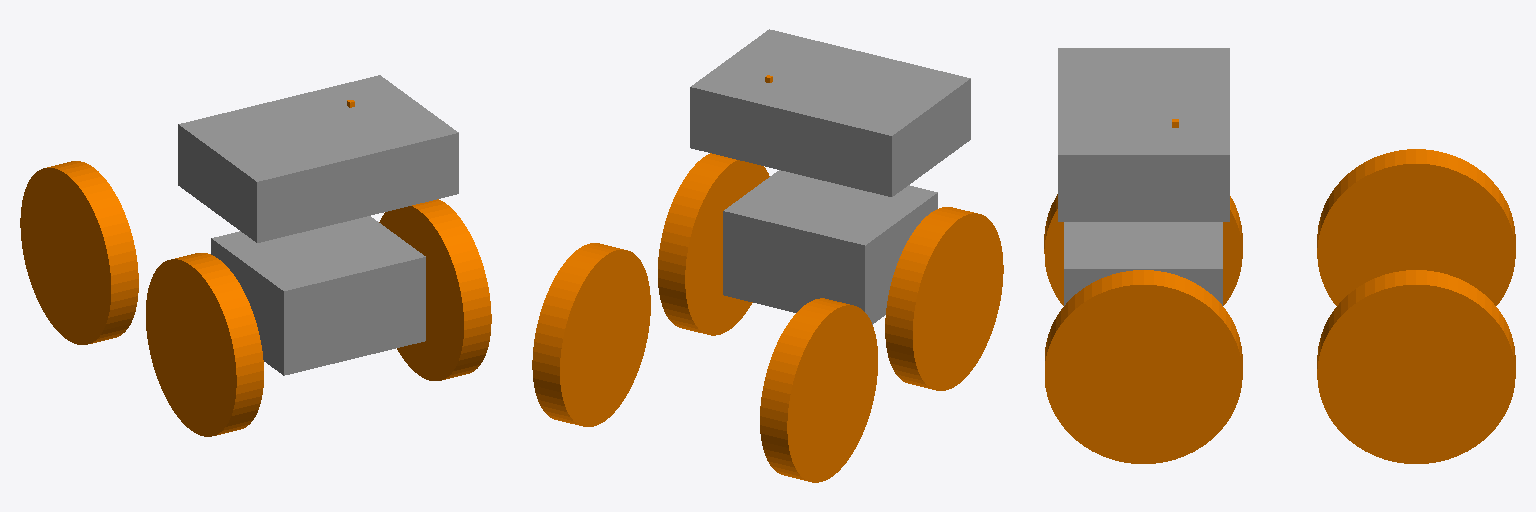
URDF robot description (assembly_simplified_stable):
<!--URDF generated by ONSHAPE BY PTC INC, 1.221-->
<robot name="assembly_simplified_stable">
    <link name="electronics">
        <inertial>
            <mass value="0.0420287" />
            <origin xyz="7.60155e-18 -4.46789e-18 0.0081" rpy="0 -0 0" />
            <inertia ixx="5.92353e-06" ixy="0" ixz="0" iyy="1.18244e-05" iyz="0" izz="1.59096e-05" />
        </inertial>
        <visual>
            <origin xyz="6.42531e-18 -4.14663e-18 -0.02685" rpy="0 -0 0" />
            <geometry>
                <mesh filename="package://assembly_simplified_stable/meshes/Electronics.stl" scale="1 1 1" />
            </geometry>
            <material name="0.647059_0.647059_0.647059_0.000000_0.000000">
                <color rgba="0.647059 0.647059 0.647059 1" />
            </material>
        </visual>
    </link>
    <link name="lipos">
        <inertial>
            <mass value="0.040025" />
            <origin xyz="2.6001e-18 -1.35525e-19 0.007625" rpy="0 -0 0" />
            <inertia ixx="3.81773e-06" ixy="0" ixz="0" iyy="8.81675e-06" iyz="0" izz="1.10831e-05" />
        </inertial>
        <visual>
            <origin xyz="2.6001e-18 0.00015 -0.0116" rpy="0 -0 0" />
            <geometry>
                <mesh filename="package://assembly_simplified_stable/meshes/Lipos.stl" scale="1 1 1" />
            </geometry>
            <material name="0.901961_0.901961_0.901961_0.000000_0.000000">
                <color rgba="0.901961 0.901961 0.901961 1" />
            </material>
        </visual>
    </link>
    <link name="motor_base">
        <inertial>
            <mass value="0.0448498" />
            <origin xyz="0 1.09579e-18 0.0290043" rpy="0 -0 0" />
            <inertia ixx="6.38629e-06" ixy="0" ixz="0" iyy="7.63255e-06" iyz="0" izz="1.02988e-05" />
        </inertial>
        <visual>
            <origin xyz="0 0 0.0286586" rpy="0 -0 0" />
            <geometry>
                <mesh filename="package://assembly_simplified_stable/meshes/Motor_base.stl" scale="1 1 1" />
            </geometry>
            <material name="0.647059_0.647059_0.647059_0.000000_0.000000">
                <color rgba="0.647059 0.647059 0.647059 1" />
            </material>
        </visual>
    </link>
    <link name="root" />
    <link name="sensor_imu">
        <inertial>
            <mass value="2.744e-09" />
            <origin xyz="-3.46945e-18 -1.73472e-18 0.0007" rpy="0 -0 0" />
            <inertia ixx="0" ixy="0" ixz="0" iyy="0" iyz="0" izz="0" />
        </inertial>
        <visual>
            <origin xyz="-0.013 -0.007 -0.04305" rpy="0 -0 0" />
            <geometry>
                <mesh filename="package://assembly_simplified_stable/meshes/sensor_imu.stl" scale="1 1 1" />
            </geometry>
            <material name="0.972549_0.529412_0.003922_0.000000_0.000000">
                <color rgba="0.972549 0.529412 0.00392157 1" />
            </material>
        </visual>
    </link>
    <link name="wheel">
        <inertial>
            <mass value="0.0141836" />
            <origin xyz="-0.0038 -5.67332e-19 -8.67362e-19" rpy="0 -0 0" />
            <inertia ixx="3.37031e-06" ixy="0" ixz="0" iyy="1.75342e-06" iyz="0" izz="1.75342e-06" />
        </inertial>
        <visual>
            <origin xyz="0.02765 -6.43445e-82 0.00685857" rpy="0 -0 0" />
            <geometry>
                <mesh filename="package://assembly_simplified_stable/meshes/Wheel.stl" scale="1 1 1" />
            </geometry>
            <material name="0.972549_0.529412_0.003922_0.000000_0.000000">
                <color rgba="0.972549 0.529412 0.00392157 1" />
            </material>
        </visual>
    </link>
    <link name="wheel_1">
        <inertial>
            <mass value="0.0141836" />
            <origin xyz="0.0038 -5.67332e-19 8.67362e-19" rpy="0 -0 0" />
            <inertia ixx="3.37031e-06" ixy="0" ixz="0" iyy="1.75342e-06" iyz="0" izz="1.75342e-06" />
        </inertial>
        <visual>
            <origin xyz="0.03525 2.43756e-50 0.00685857" rpy="0 -0 0" />
            <geometry>
                <mesh filename="package://assembly_simplified_stable/meshes/Wheel.stl" scale="1 1 1" />
            </geometry>
            <material name="0.972549_0.529412_0.003922_0.000000_0.000000">
                <color rgba="0.972549 0.529412 0.00392157 1" />
            </material>
        </visual>
    </link>
    <link name="wheel_2">
        <inertial>
            <mass value="0.0141836" />
            <origin xyz="0.0038 -5.67332e-19 -8.67362e-19" rpy="0 -0 0" />
            <inertia ixx="3.37031e-06" ixy="0" ixz="0" iyy="1.75342e-06" iyz="0" izz="1.75342e-06" />
        </inertial>
        <visual>
            <origin xyz="-0.02765 -6.43445e-82 0.00685857" rpy="0 -0 0" />
            <geometry>
                <mesh filename="package://assembly_simplified_stable/meshes/Wheel_2.stl" scale="1 1 1" />
            </geometry>
            <material name="0.972549_0.529412_0.003922_0.000000_0.000000">
                <color rgba="0.972549 0.529412 0.00392157 1" />
            </material>
        </visual>
    </link>
    <link name="wheel_3">
        <inertial>
            <mass value="0.0141836" />
            <origin xyz="-0.0038 -5.67332e-19 -8.67362e-19" rpy="0 -0 0" />
            <inertia ixx="3.37031e-06" ixy="0" ixz="0" iyy="1.75342e-06" iyz="0" izz="1.75342e-06" />
        </inertial>
        <visual>
            <origin xyz="0.02765 0 0.00685857" rpy="0 -0 0" />
            <geometry>
                <mesh filename="package://assembly_simplified_stable/meshes/Wheel.stl" scale="1 1 1" />
            </geometry>
            <material name="0.972549_0.529412_0.003922_0.000000_0.000000">
                <color rgba="0.972549 0.529412 0.00392157 1" />
            </material>
        </visual>
    </link>
    <joint name="fastened_1" type="fixed">
        <origin xyz="0 0 0" rpy="0 -0 0" />
        <axis xyz="-0 -0 -1" />
        <parent link="root" />
        <child link="motor_base" />
    </joint>
    <joint name="fastened_2" type="fixed">
        <origin xyz="-2.6001e-18 -4.71628e-18 0.0401586" rpy="1.35525e-16 6.93335e-33 0" />
        <axis xyz="6.93335e-33 -1.35525e-16 -1" />
        <parent link="motor_base" />
        <child link="lipos" />
    </joint>
    <joint name="fastened_3" type="fixed">
        <origin xyz="-3.82522e-18 3.5192e-19 0.01525" rpy="-2.46519e-32 -6.93335e-33 9.39644e-49" />
        <axis xyz="1.13185e-16 -1.35525e-16 -1" />
        <parent link="lipos" />
        <child link="electronics" />
    </joint>
    <joint name="fastened_4" type="fixed">
        <origin xyz="0.013 0.007 0.0162" rpy="0 -0 0" />
        <axis xyz="0 0 -1" />
        <parent link="electronics" />
        <child link="sensor_imu" />
    </joint>
    <joint name="wheel_back1" type="continuous">
        <origin xyz="0.02765 0.06 0.0218" rpy="-1.48368e-63 4.62593e-16 -6.41464e-48" />
        <axis xyz="1 3.20732e-48 2.31296e-16" />
        <parent link="motor_base" />
        <child link="wheel_1" />
    </joint>
    <joint name="wheel_back2" type="continuous">
        <origin xyz="-0.02765 0.06 0.0218" rpy="0 -1.18966e-111 0" />
        <axis xyz="-1 -3.20732e-48 -2.31296e-16" />
        <parent link="motor_base" />
        <child link="wheel" />
    </joint>
    <joint name="wheel_left" type="continuous">
        <origin xyz="-0.02765 -1.30104e-18 0.0218" rpy="2.6039 -4.29987e-16 1.1846e-16" />
        <axis xyz="-1 -3.20732e-48 -2.31296e-16" />
        <parent link="motor_base" />
        <child link="wheel_3" />
    </joint>
    <joint name="wheel_right" type="continuous">
        <origin xyz="0.02765 6.43445e-82 0.0218" rpy="0 1.18966e-111 0" />
        <axis xyz="1 -3.20732e-48 -2.31296e-16" />
        <parent link="motor_base" />
        <child link="wheel_2" />
    </joint>
</robot>

--- What the picture shows (computed from the rendered views, not written in the file) ---
Views: 3 orthographic renders of the robot side by side, from view 1: azimuth 30°, elevation 25°; view 2: azimuth 150°, elevation 25°; view 3: azimuth 270°, elevation 25°.
Model assembly_simplified_stable with 9 links and 8 joints (4 continuous, 4 fixed), rooted at root, posed all joints at 0.
Links seen in each view (by area): view 1: electronics, motor_base, wheel, wheel_3, wheel_2; view 2: electronics, motor_base, wheel_1, wheel_3, wheel, wheel_2; view 3: wheel_1, wheel_2, electronics, wheel, motor_base, wheel_3.
Boxes of the visible links, x1,y1,x2,y2 form: electronics: (178,75,458,242); motor_base: (211,216,425,375); wheel: (20,161,138,344); wheel_3: (146,253,263,436); wheel_2: (379,199,491,380); electronics: (690,29,970,196); motor_base: (723,170,937,324); wheel_1: (532,243,650,426); wheel_3: (885,207,1003,390); wheel: (760,298,877,482); wheel_2: (658,153,769,335); wheel_1: (1317,270,1515,463); wheel_2: (1045,270,1242,463); electronics: (1058,48,1229,221); wheel: (1317,149,1515,305); motor_base: (1064,222,1222,305); wheel_3: (1044,194,1242,305).
Bounding box of the posed robot: 0.0705 × 0.1035 × 0.073 m (x, y, z).
Meshes: 6 distinct files referenced, 7 mesh visuals loaded (5 binary STL); not drawn: 1 (reference not matched to a file when rendering).
